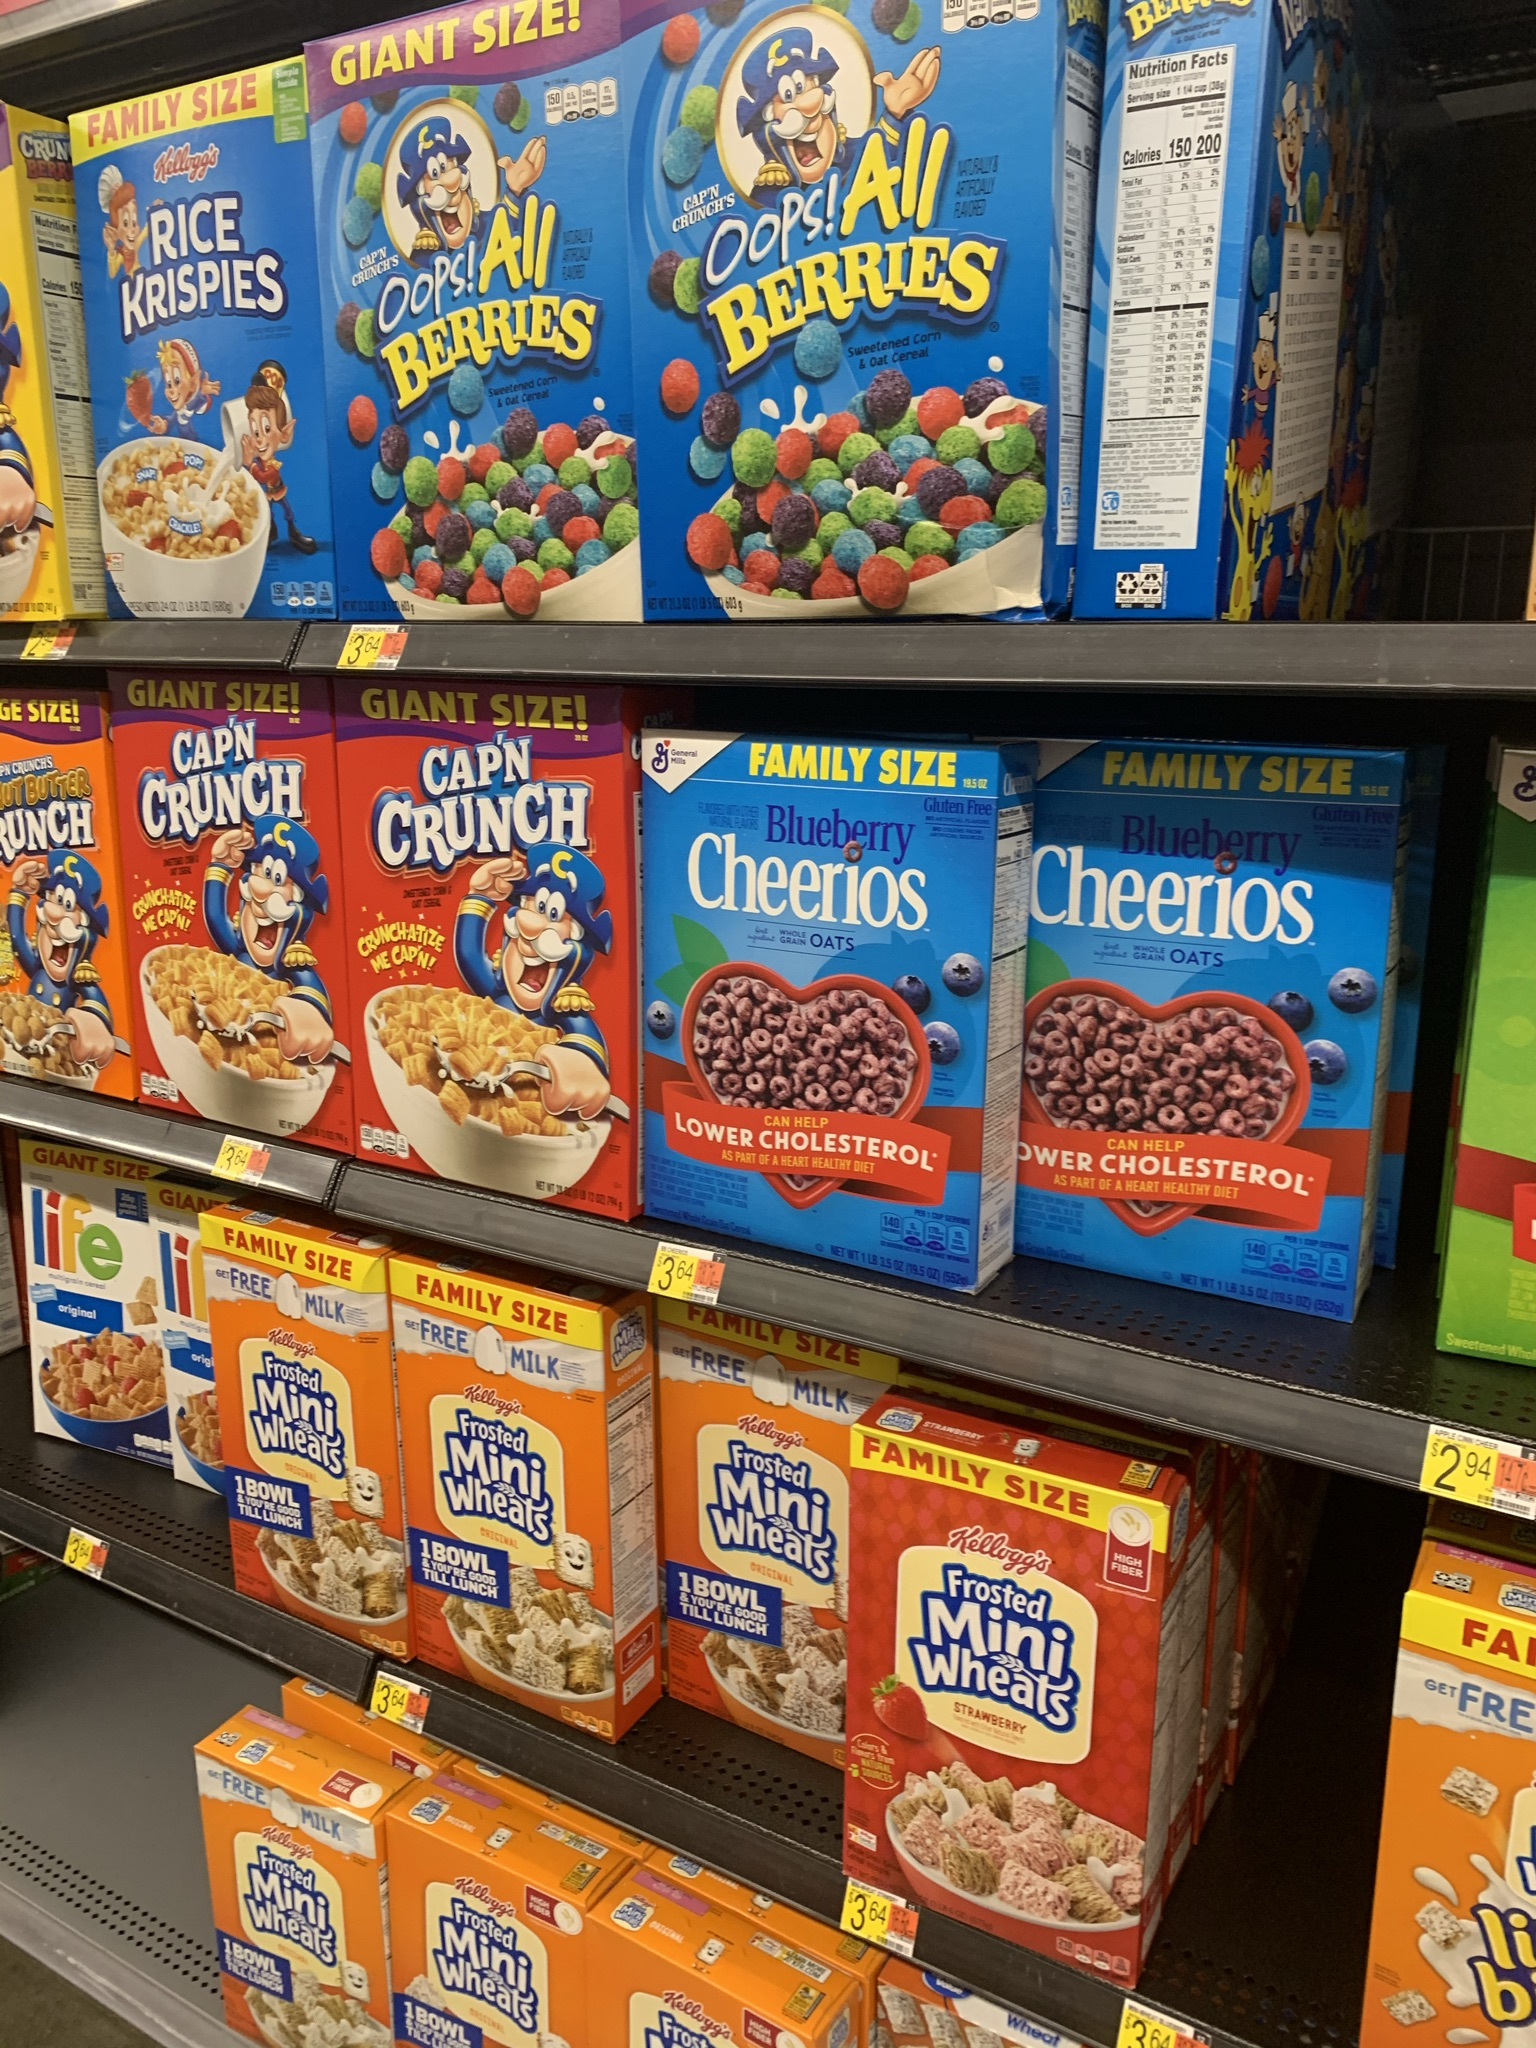Cereal: (645, 2, 1063, 635)
